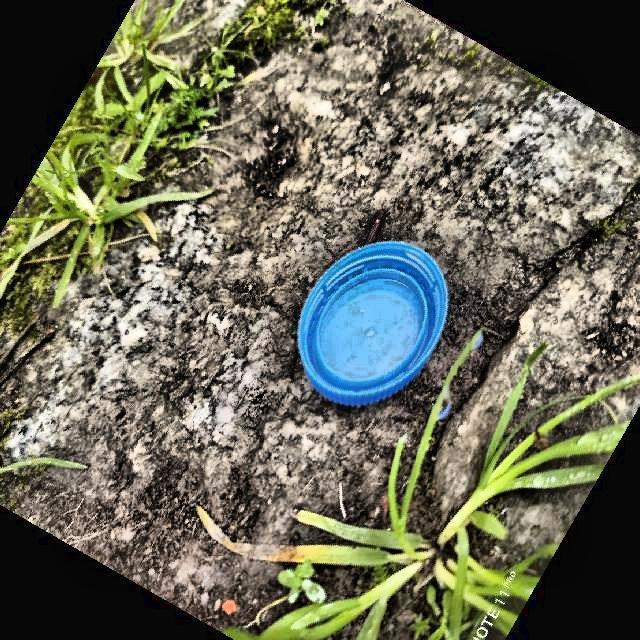plastic: (298, 241, 448, 406)
